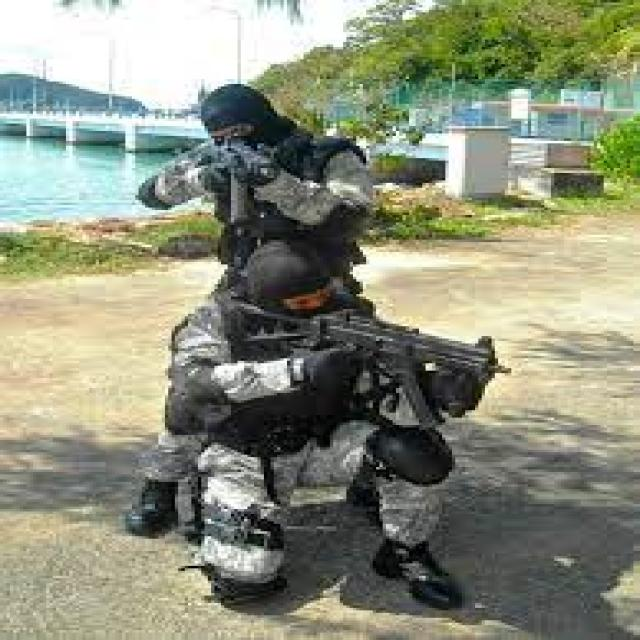Gun: (187, 288, 555, 453)
